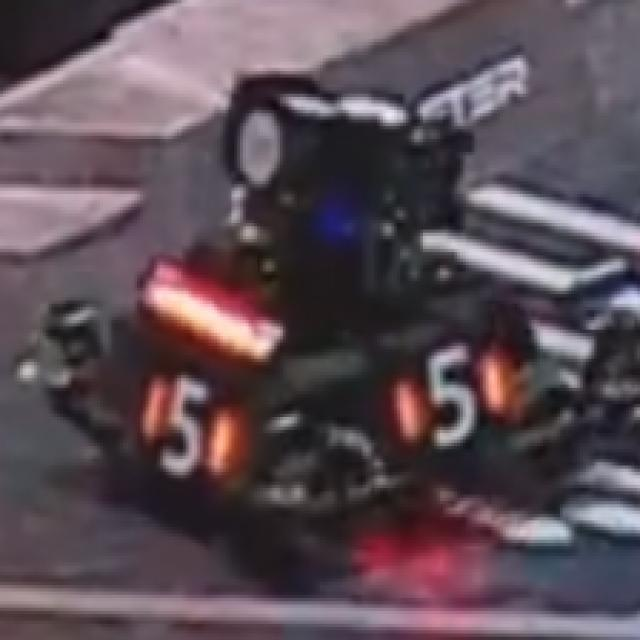R5: (137, 362, 240, 485), (394, 342, 512, 442)
